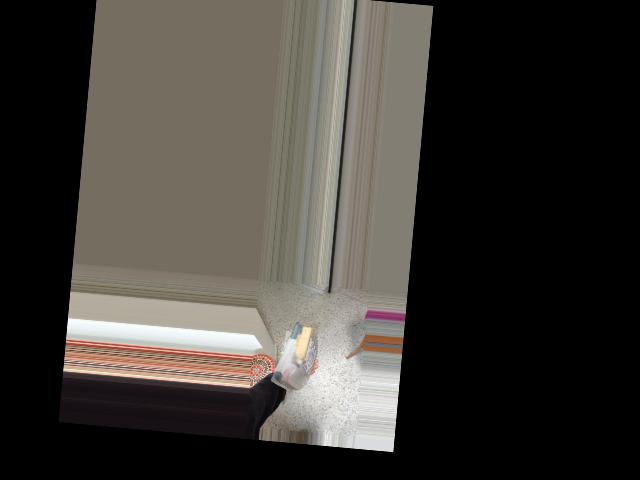cheese: (265, 317, 320, 391)
